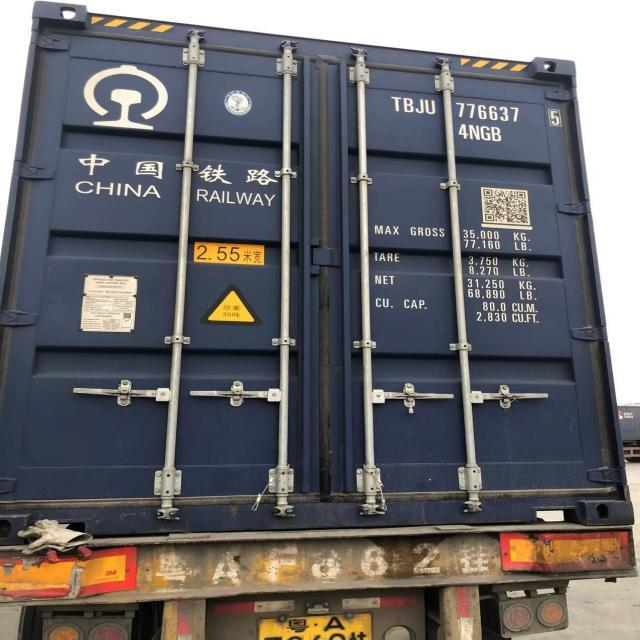ISO: (459, 124, 501, 142)
container_number: (390, 101, 574, 121)
